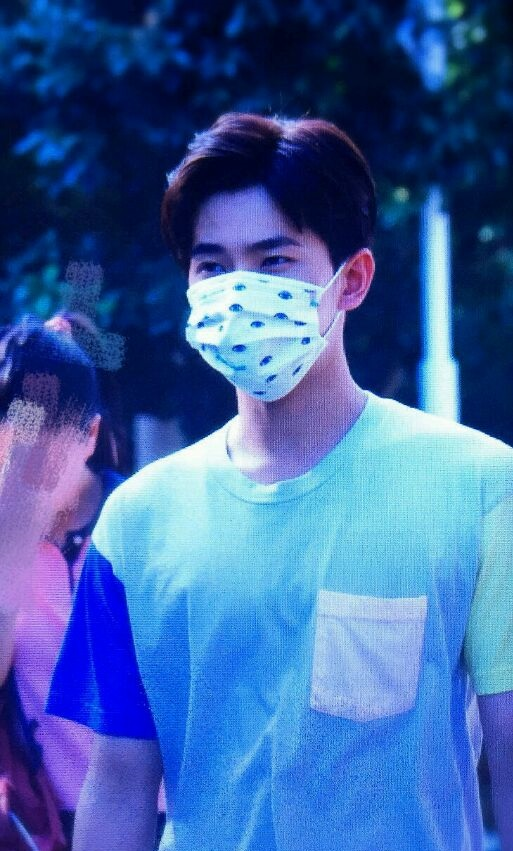face_mask: (190, 197, 326, 401)
